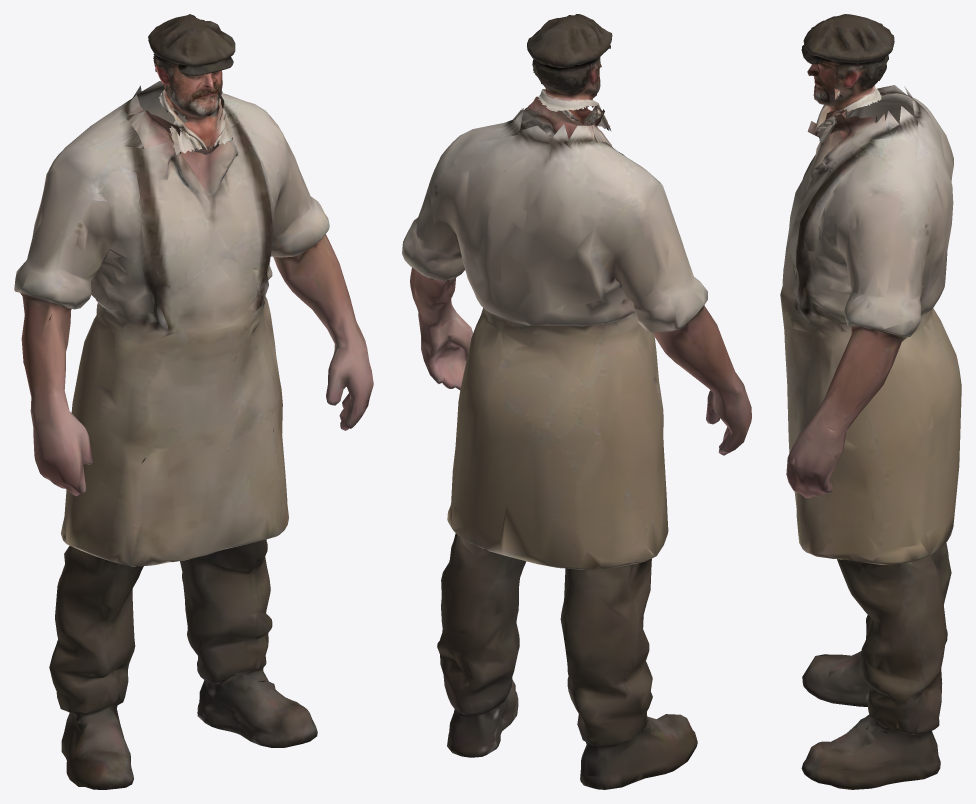
Rendered from miller.phone.glb.
3 views of the same model, side by side, from view 1: azimuth 30°, elevation 25°; view 2: azimuth 150°, elevation 25°; view 3: azimuth 270°, elevation 25° (orthographic). The views are drawn at different scales.
Visible parts, largest first — view 1: miller.phone.raw; view 2: miller.phone.raw; view 3: miller.phone.raw.
Boxes of the visible parts, box(x1,y1,x2,y2) form: miller.phone.raw: box(14, 14, 373, 789); miller.phone.raw: box(402, 14, 751, 789); miller.phone.raw: box(780, 14, 961, 789).
Size of the model in its own units: 0.8479 by 1.8 by 0.4099.
Materials: 1 (1 with a texture image).
